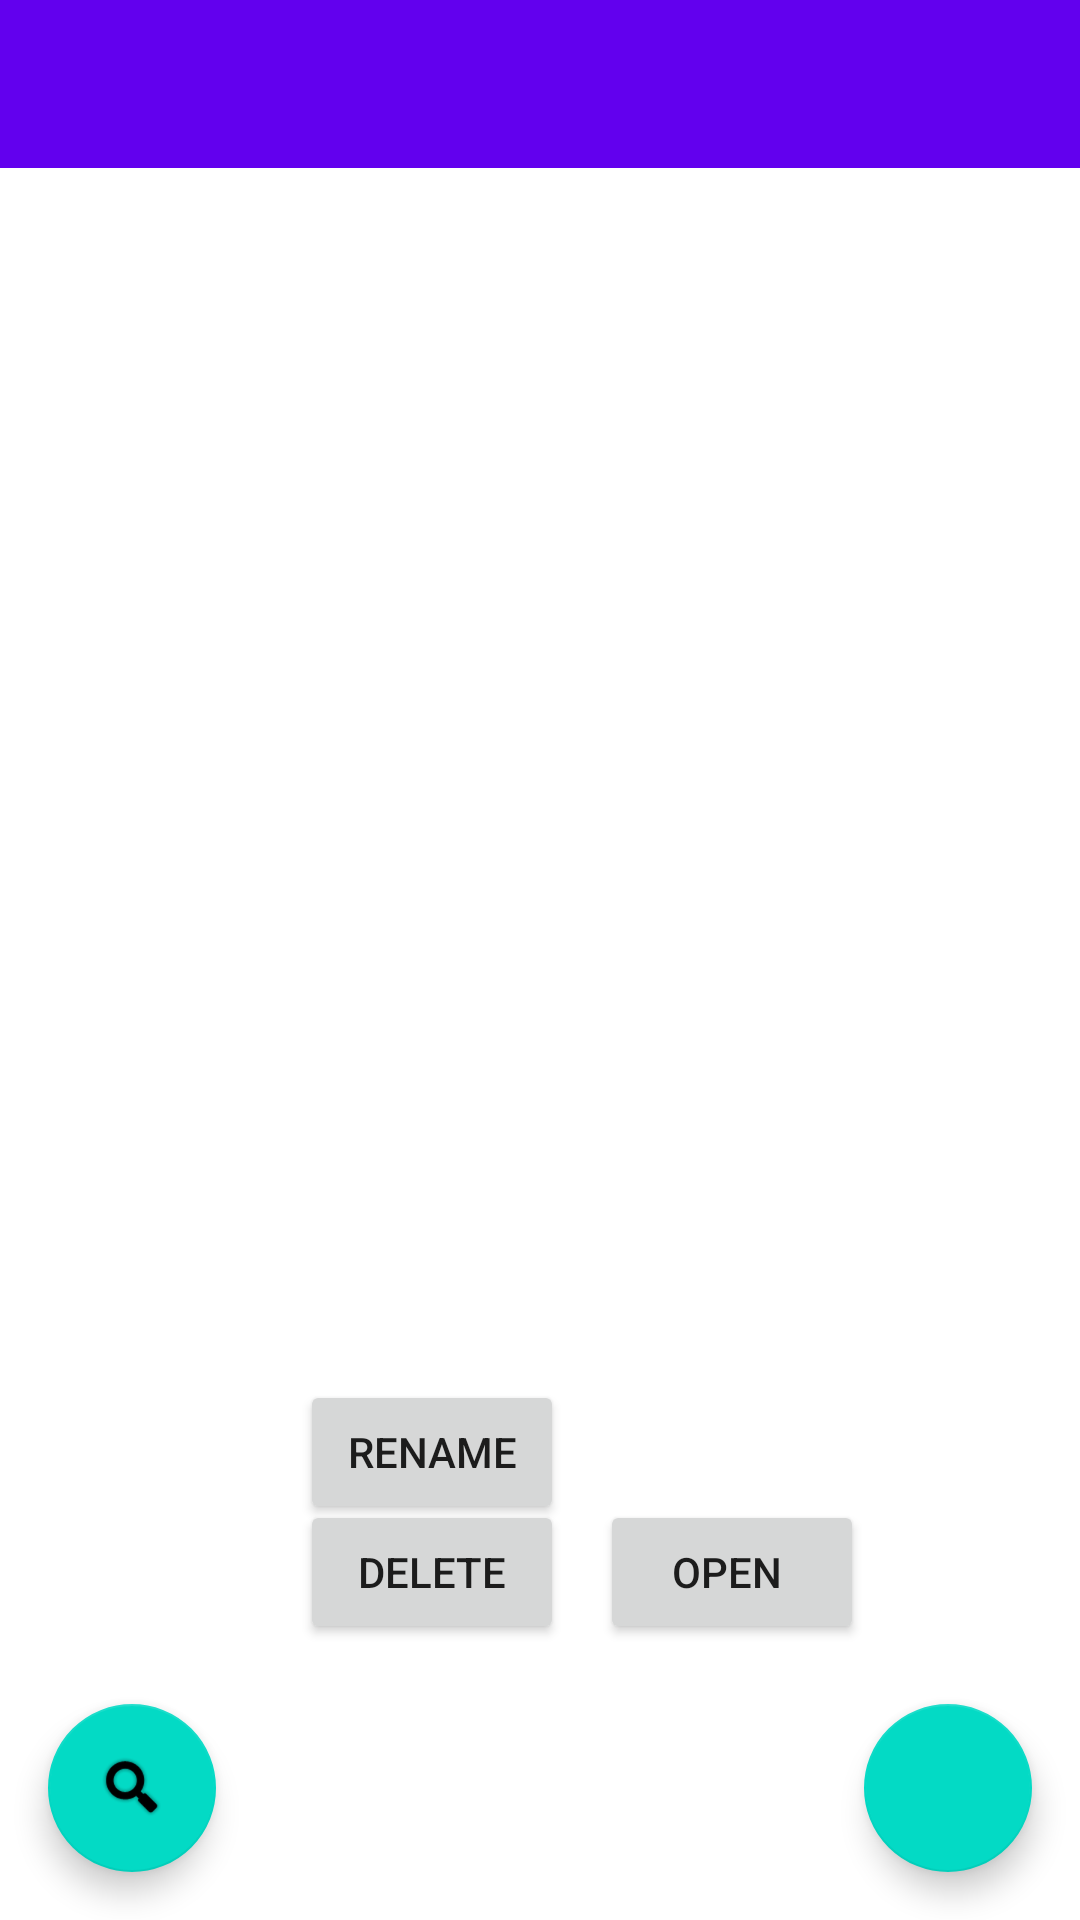

Icon click points for this 1080×1920 phone screenshot, format point (x, y):
search category: point (132, 1788)
